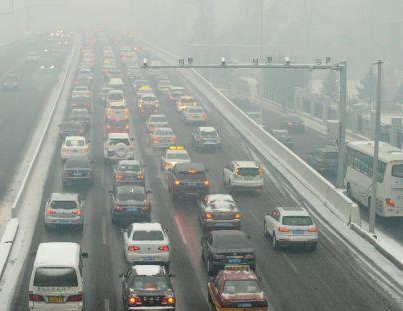bus: (342, 137, 403, 219)
car: (26, 239, 89, 311), (206, 263, 268, 311), (119, 264, 177, 311), (263, 204, 318, 251), (119, 222, 171, 267), (200, 231, 256, 272), (167, 160, 210, 202), (107, 185, 154, 223), (43, 192, 86, 232), (222, 159, 264, 195), (196, 194, 240, 228), (102, 132, 136, 165), (60, 156, 95, 185), (111, 160, 148, 187), (159, 145, 192, 175), (305, 146, 339, 173), (146, 126, 178, 153), (192, 125, 222, 152), (60, 135, 91, 161), (57, 118, 87, 142), (104, 112, 131, 138), (267, 127, 294, 151), (277, 113, 304, 134), (67, 107, 91, 130), (181, 106, 207, 125), (144, 114, 170, 133), (137, 93, 160, 114), (69, 95, 92, 115), (242, 110, 265, 130), (105, 101, 129, 119), (176, 95, 197, 114), (106, 89, 125, 109), (167, 86, 187, 104), (135, 85, 155, 103), (107, 75, 125, 95), (71, 84, 90, 102), (2, 74, 21, 91), (147, 60, 165, 76), (157, 78, 174, 94), (73, 74, 90, 90), (76, 68, 94, 83), (40, 57, 57, 72), (131, 78, 148, 92), (25, 51, 40, 65)
